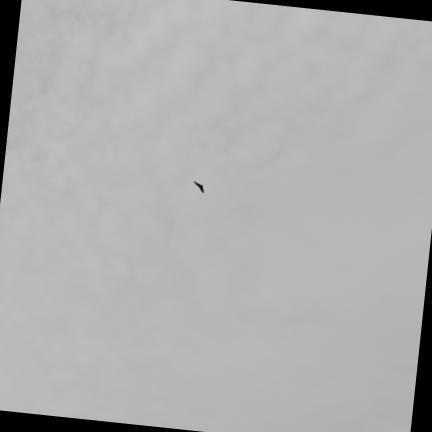Shahed: (194, 181, 204, 193)
